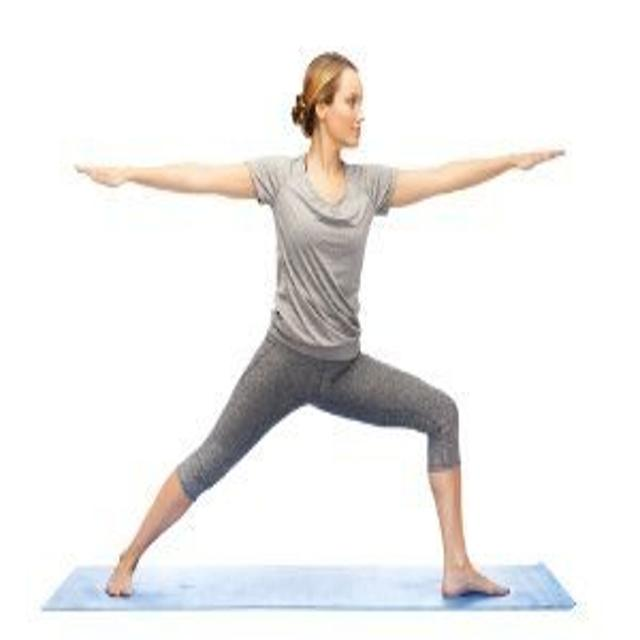Warrior_II: (67, 48, 570, 597)
